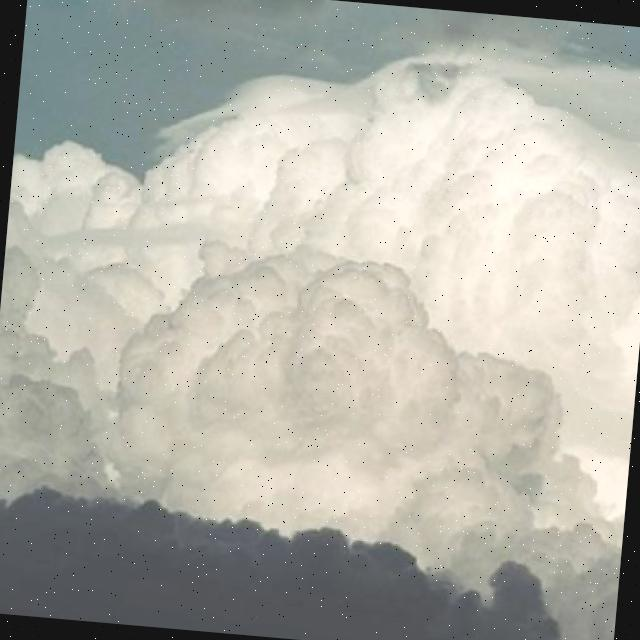Cb: (1, 23, 640, 511)
